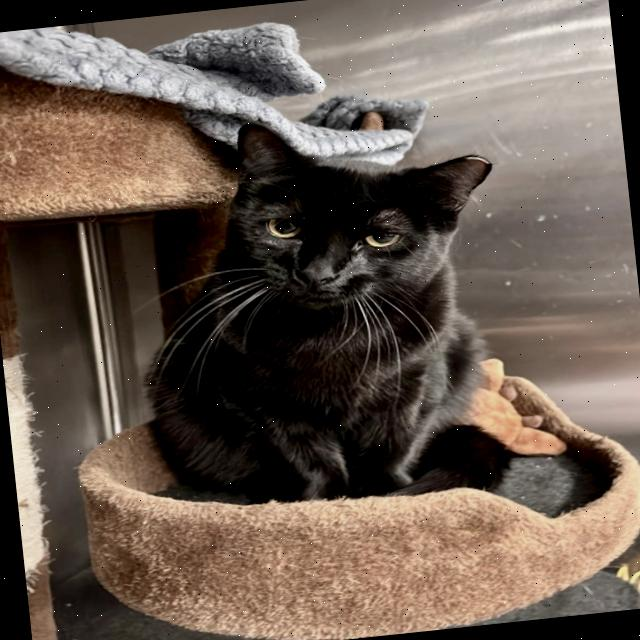bombay_cat: (174, 82, 523, 357)
